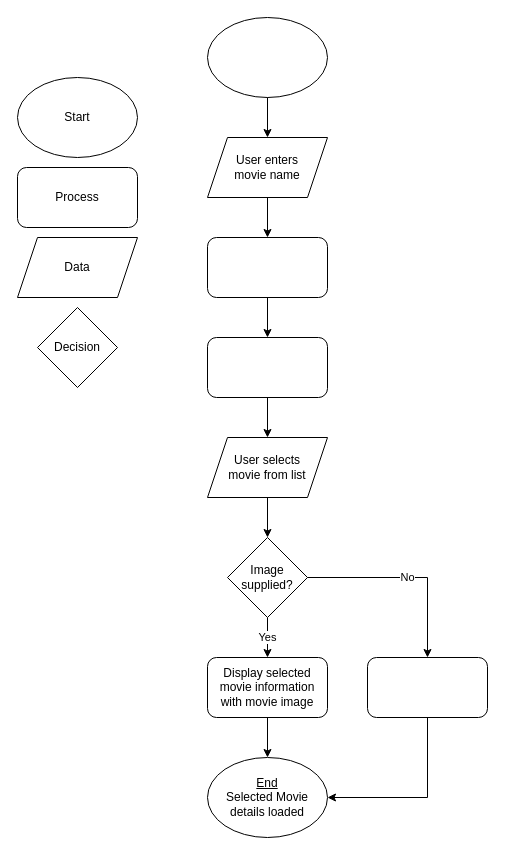
This 505x855 diagram has some shape labels left out. Each missing label, with the box of its shape:
Check against API database for all movies: (206, 236, 328, 298)
Display movie information with image not found placeholder: (366, 656, 488, 718)
Return matches to search criteria: (206, 336, 328, 398)
Start Web page loads: (206, 16, 328, 98)
